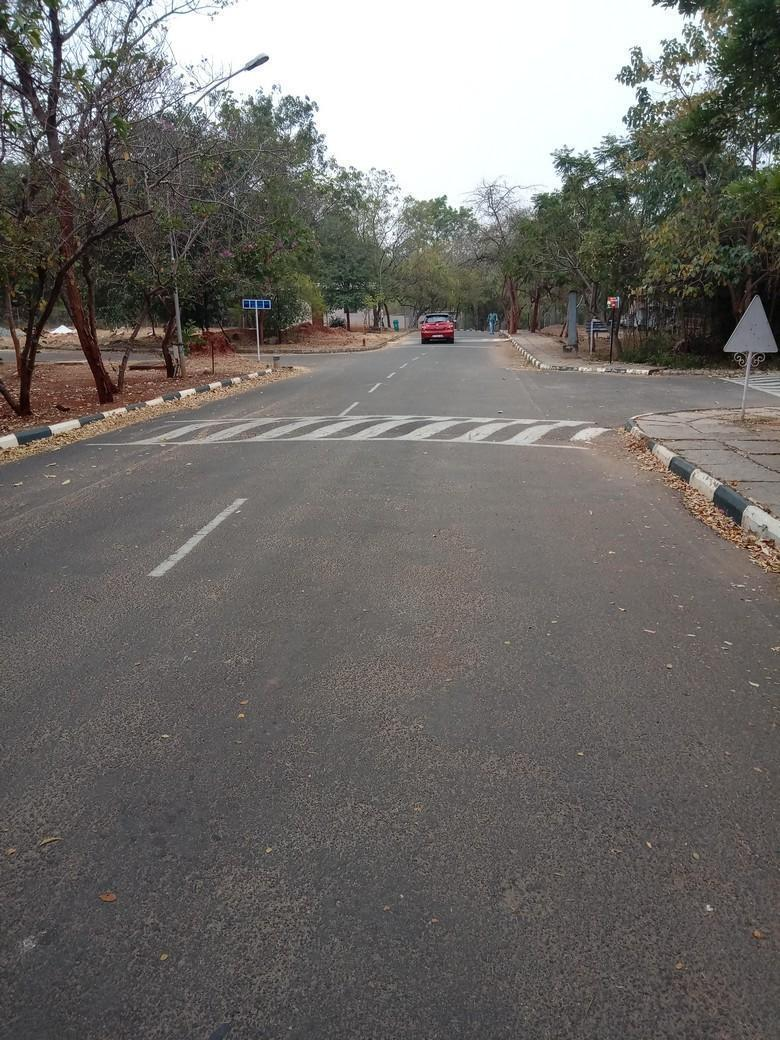speedbreaker: (159, 400, 615, 458)
